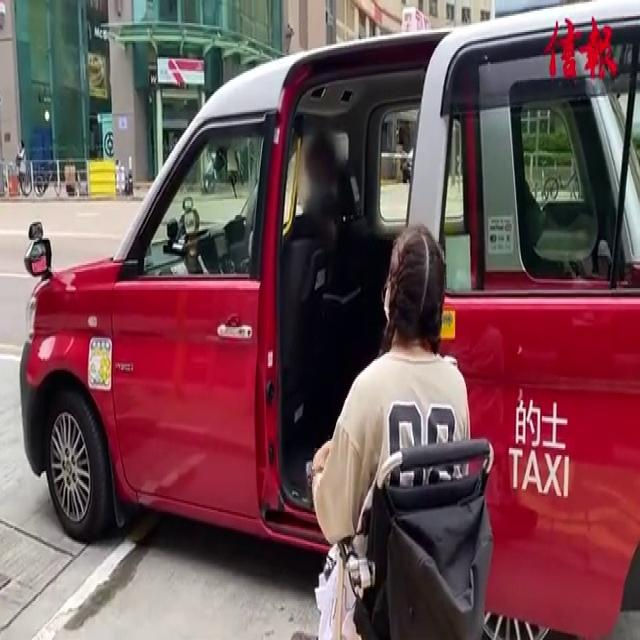wheelchairs: (303, 406, 504, 640)
